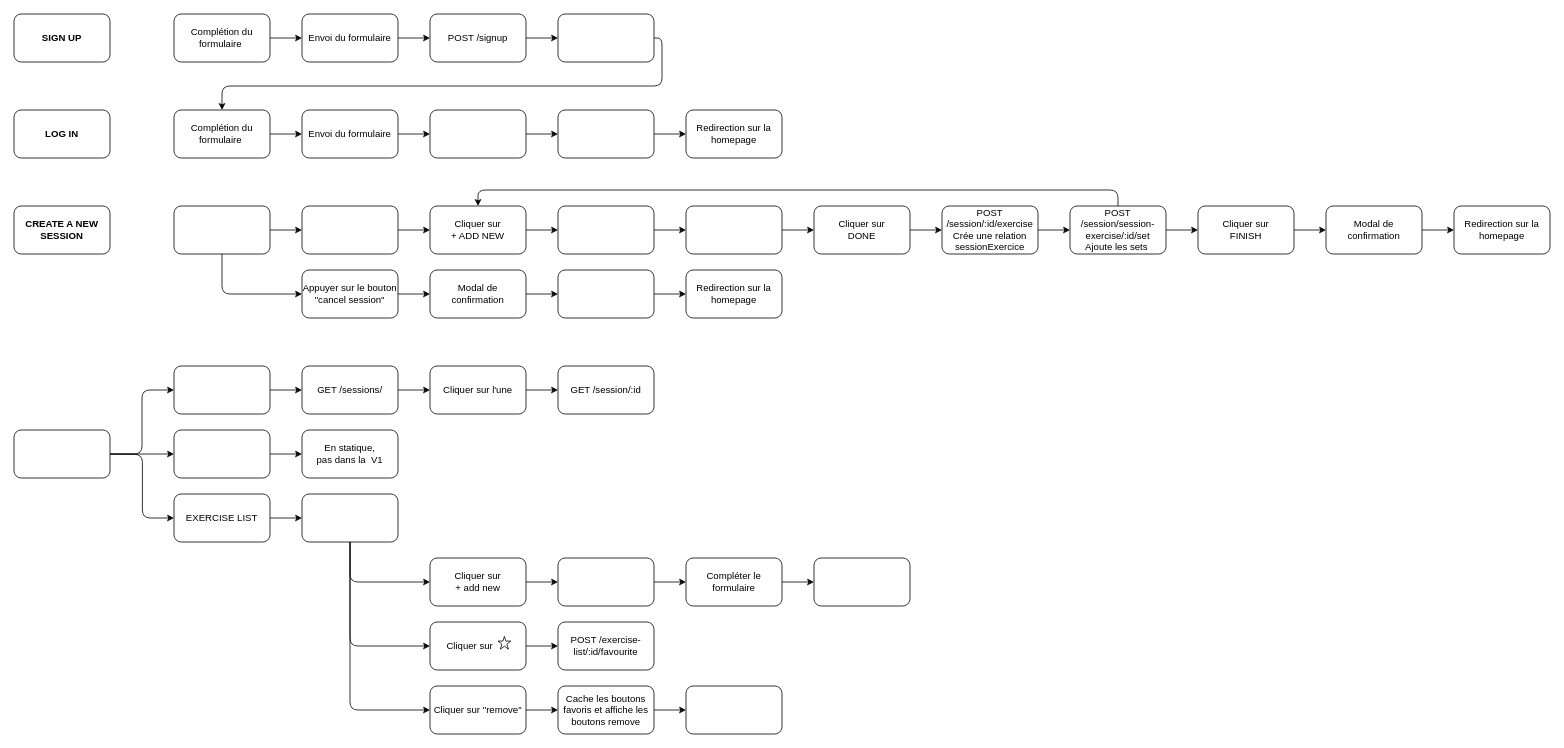
The diagram is 1564 pixels wide and 748 high, and some of its shapes have lost their labels. The box of each missing label's shape, as (x1, y1, x2, y2) in pixels:
Appuyer sur le bouton START: (173, 205, 270, 254)
Attribution du token: (557, 109, 654, 158)
Cliquer sur + ADD SET pour ajouter des sets: (685, 205, 782, 254)
DELETE /exercise-list/:id: (685, 685, 782, 734)
DELETE /session/:id: (557, 269, 654, 318)
Enregistrement en BDD: (557, 13, 654, 62)
GET /exercise-categories: (557, 557, 654, 606)
GET /exercise-list: (301, 493, 398, 542)
HOMEPAGE: (13, 429, 110, 478)
MY LAST SESSIONS: (173, 365, 270, 414)
MY PROGRESS: (173, 429, 270, 478)
POST /exercise-list: (813, 557, 910, 606)
POST /login: (429, 109, 526, 158)
POST /session Crée un id de session: (301, 205, 398, 254)
Sélectionner un exo GET /exercise-list: (557, 205, 654, 254)
